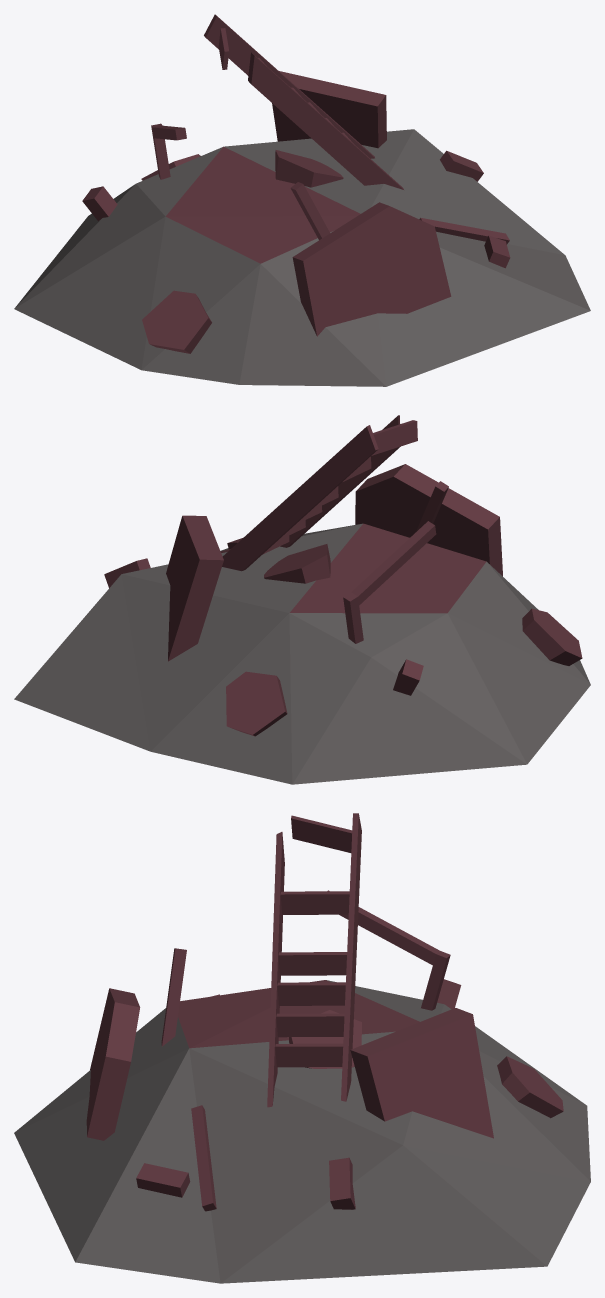
The model's file is rubble-concrete-apocalypse-d.fbx.
3 renders of one model, top to bottom at view 1: azimuth 30°, elevation 25°; view 2: azimuth 150°, elevation 25°; view 3: azimuth 270°, elevation 25°, orthographic. The views are drawn at different scales.
Parts seen in each view (by area): view 1: rubble-concrete-apocalypse-d; view 2: rubble-concrete-apocalypse-d; view 3: rubble-concrete-apocalypse-d.
Part boxes in pixels (x1=…): rubble-concrete-apocalypse-d: x1=14, y1=14, x2=590, y2=386; rubble-concrete-apocalypse-d: x1=14, y1=415, x2=590, y2=784; rubble-concrete-apocalypse-d: x1=14, y1=813, x2=590, y2=1283.
Size of the model in its own units: 5.27 by 2.88 by 4.9.
